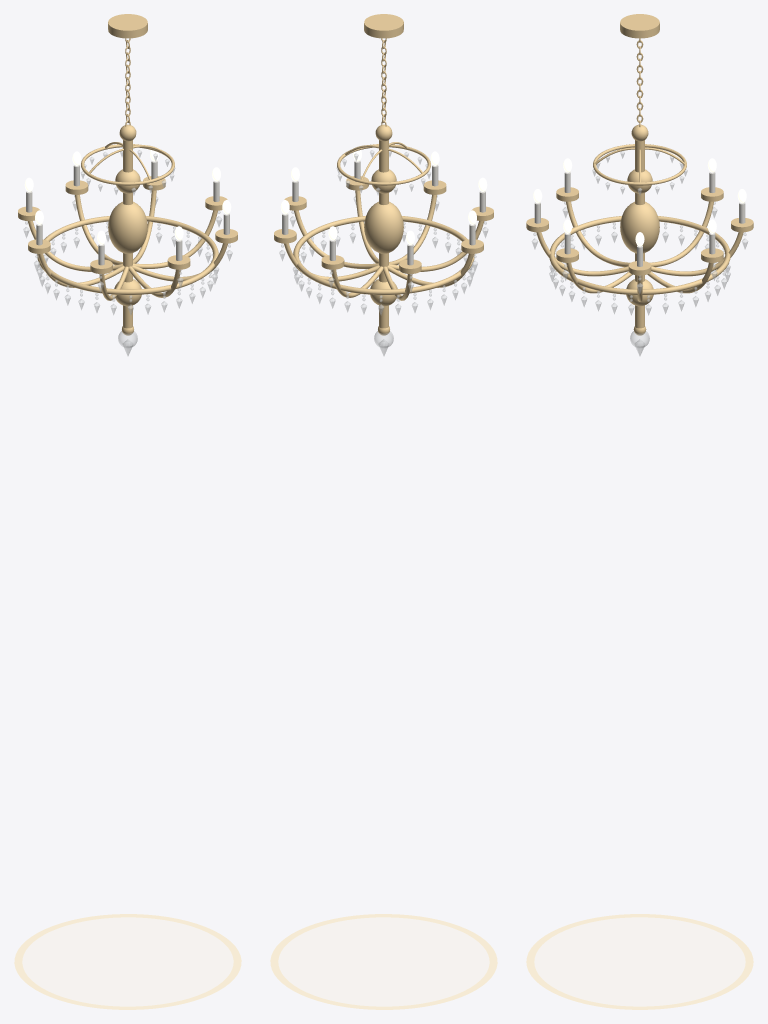
The picture shows the model from 3 angles, left to right: view 1: azimuth 30°, elevation 25°; view 2: azimuth 150°, elevation 25°; view 3: azimuth 270°, elevation 25°; orthographic projection.
Visible parts, largest first — view 1: Brass frame, Crystals, Ring, Candle sleeves, Bulbs; view 2: Brass frame, Crystals, Ring, Candle sleeves, Bulbs; view 3: Brass frame, Crystals, Ring, Candle sleeves, Bulbs.
Part boxes in pixels (x1,y1,x2,y2): Brass frame: [18, 14, 237, 335]; Crystals: [23, 150, 232, 355]; Ring: [14, 914, 241, 1009]; Candle sleeves: [26, 160, 229, 265]; Bulbs: [24, 150, 231, 244]; Brass frame: [274, 14, 493, 335]; Crystals: [279, 150, 488, 355]; Ring: [270, 914, 497, 1009]; Candle sleeves: [282, 160, 485, 265]; Bulbs: [280, 150, 487, 244]; Brass frame: [526, 14, 753, 335]; Crystals: [531, 151, 748, 355]; Ring: [526, 914, 753, 1009]; Candle sleeves: [534, 172, 745, 266]; Bulbs: [533, 158, 746, 246].
Bounding box in the file's own units: 0.8 × 3.65 × 0.8.
